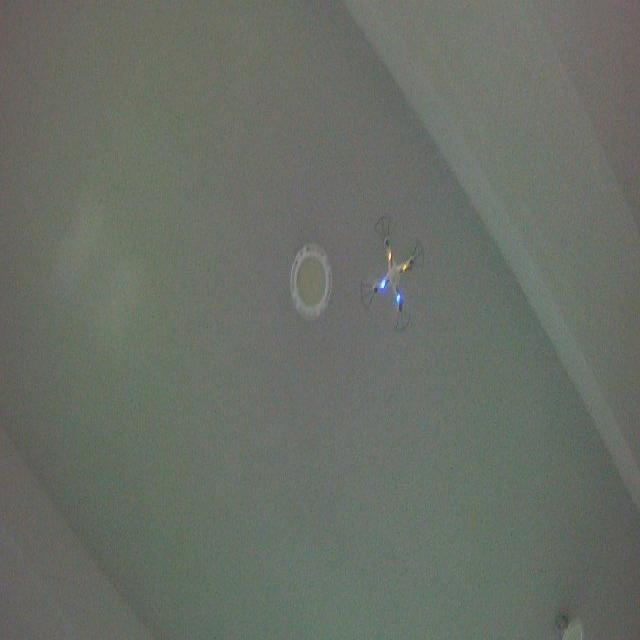drone: (360, 214, 426, 334)
